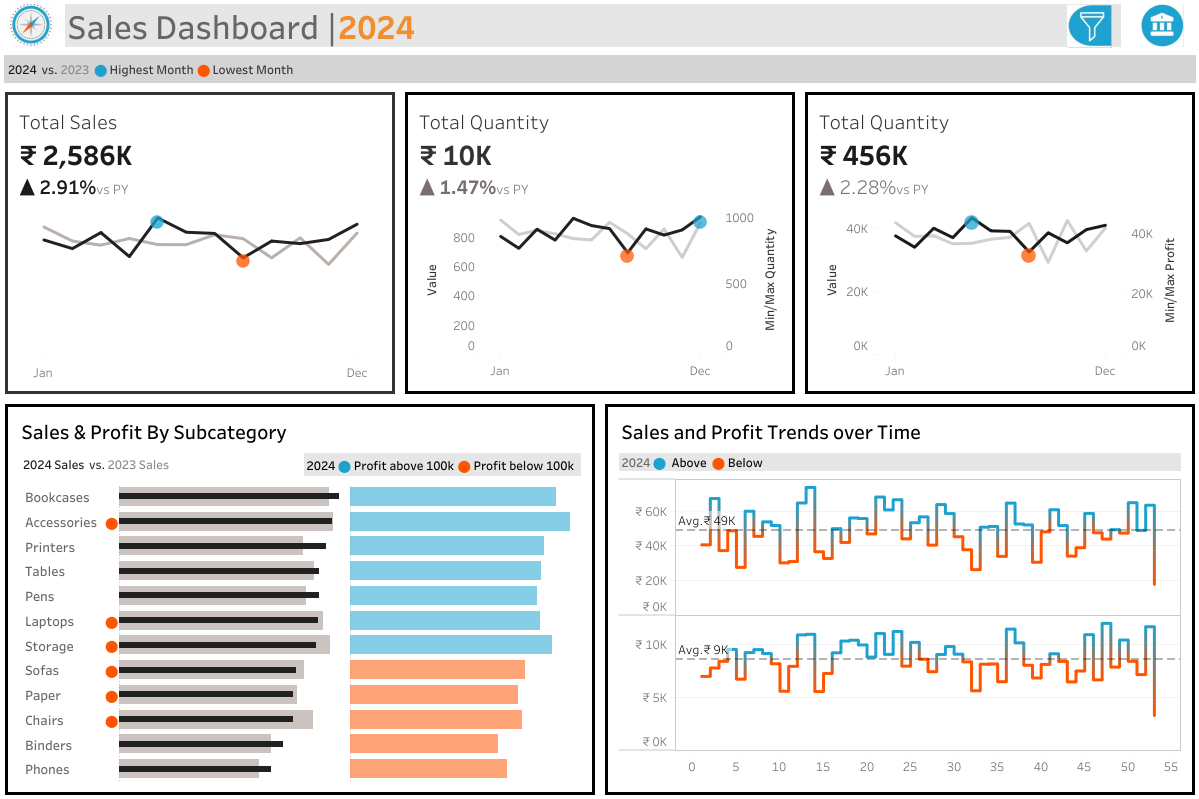

This screenshot's page, from the dashboard's own definition file:
{"tool":"tableau","page":{"name":"Sales Dashboard","canvas":[1200,800],"ordinal":0},"visuals":[{"type":"image","param":"Image/WhatsApp Image 2025-03-10 at 22.03.16_b1f8444c.jpg","box":[0,0,61,51]},{"type":"text","box":[61,0,1064,51]},{"type":"dashboard-object","box":[1125,0,75,51]},{"type":"dashboard-object","box":[1062,5,56,43]},{"type":"worksheet","title":"Legend KPI","mark":"Automatic","box":[0,51,1200,36]},{"type":"worksheet","title":"KPI SALES","mark":"Automatic","rows":["Calculation_961800046748983300"],"cols":["Order Date"],"box":[0,87,400,312]},{"type":"worksheet","title":"KPI Quantity","mark":"Line","rows":["Calculation_677791795398864899"],"cols":["Order Date"],"box":[400,87,400,312]},{"type":"worksheet","title":"KPI Profit","mark":"Line","rows":["Calculation_677791795422732299"],"cols":["Order Date"],"box":[800,87,400,312]},{"type":"blank","box":[1001,107,179,50]},{"type":"text","box":[1001,157,179,34]},{"type":"parameter","param":"[Parameters].[Parameter 1]","box":[1001,191,179,52]},{"type":"blank","box":[1001,243,179,36]},{"type":"text","box":[1001,279,179,29]},{"type":"filter","title":"KPI SALES","param":"[federated.1pftwrf0i98ldl147u7ip1hmuejj].[none:Category:nk]","box":[1001,308,179,52]},{"type":"filter","title":"KPI SALES","param":"[federated.1pftwrf0i98ldl147u7ip1hmuejj].[none:Subcategory:nk]","box":[1001,360,179,52]},{"type":"blank","box":[1001,412,179,41]},{"type":"text","box":[15,414,570,34]},{"type":"text","box":[615,414,570,34]},{"type":"worksheet","title":"Legend Subcategory","mark":"Automatic","box":[15,448,285,31]},{"type":"text","box":[300,448,285,31]},{"type":"text","box":[615,448,570,25]},{"type":"text","box":[1001,453,179,29]},{"type":"worksheet","title":"Weekly Trends","mark":"Automatic","rows":["Calculation_961800046738644992","Calculation_677791795422126088"],"cols":["Order Date"],"box":[615,473,570,312]},{"type":"worksheet","title":"Subcategory Comparison","mark":"Bar","rows":["Subcategory","Calculation_308778101099143170"],"cols":["CY SALES (copy)_961800046739542017","Calculation_961800046738644992","Calculation_677791795422126088"],"box":[15,479,570,306]},{"type":"filter","title":"KPI SALES","param":"[federated.1pftwrf0i98ldl147u7ip1hmuejj].[none:Region:nk]","box":[1001,482,179,60]},{"type":"filter","title":"KPI SALES","param":"[federated.1pftwrf0i98ldl147u7ip1hmuejj].[none:City:nk]","box":[1001,542,179,52]},{"type":"filter","title":"KPI SALES","param":"[federated.1pftwrf0i98ldl147u7ip1hmuejj].[none:State:nk]","box":[1001,594,179,53]}]}

Visuals, with their boxes in screenshot pixels (x1, y1, x2, y2), scaled from the page's 1200x800 canvas onto the 1199x799 screenshot:
image: bbox(0, 0, 61, 51)
text: bbox(61, 0, 1124, 51)
dashboard-object: bbox(1124, 0, 1198, 51)
dashboard-object: bbox(1061, 5, 1117, 48)
"Legend KPI" worksheet: bbox(0, 51, 1198, 87)
"KPI SALES" worksheet: bbox(0, 87, 400, 399)
"KPI Quantity" worksheet (Line marks): bbox(400, 87, 799, 399)
"KPI Profit" worksheet (Line marks): bbox(799, 87, 1198, 399)
blank: bbox(1000, 107, 1179, 157)
text: bbox(1000, 157, 1179, 191)
parameter: bbox(1000, 191, 1179, 243)
blank: bbox(1000, 243, 1179, 279)
text: bbox(1000, 279, 1179, 308)
"KPI SALES" filter: bbox(1000, 308, 1179, 360)
"KPI SALES" filter: bbox(1000, 360, 1179, 411)
blank: bbox(1000, 411, 1179, 452)
text: bbox(15, 413, 585, 447)
text: bbox(614, 413, 1184, 447)
"Legend Subcategory" worksheet: bbox(15, 447, 300, 478)
text: bbox(300, 447, 585, 478)
text: bbox(614, 447, 1184, 472)
text: bbox(1000, 452, 1179, 481)
"Weekly Trends" worksheet: bbox(614, 472, 1184, 784)
"Subcategory Comparison" worksheet (Bar marks): bbox(15, 478, 585, 784)
"KPI SALES" filter: bbox(1000, 481, 1179, 541)
"KPI SALES" filter: bbox(1000, 541, 1179, 593)
"KPI SALES" filter: bbox(1000, 593, 1179, 646)
